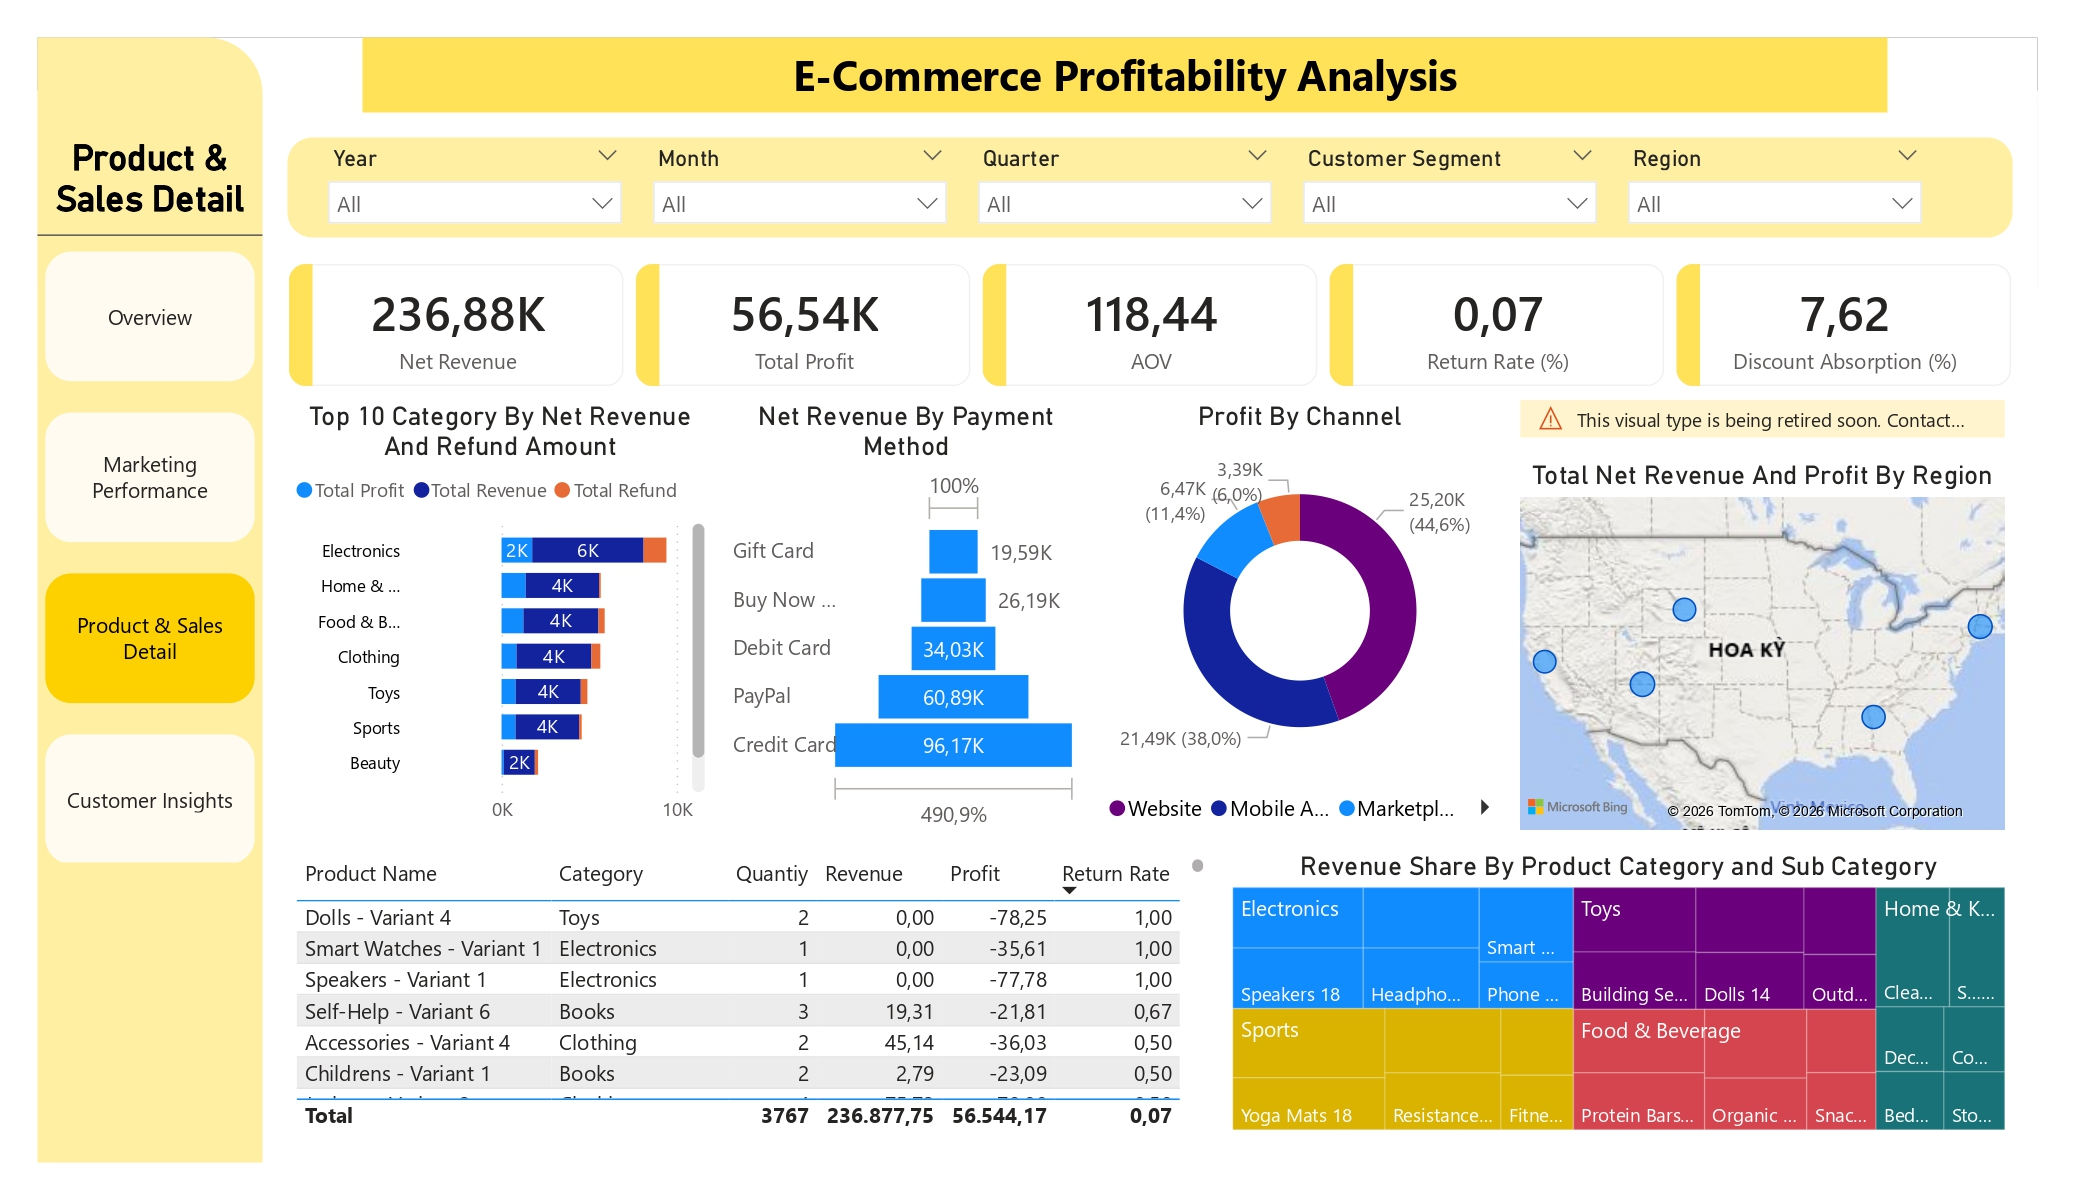

What the dashboard file says about the page in this screenshot:
{"tool":"powerbi","page":{"name":"Product & Sales Detail","canvas":[1280,720],"ordinal":2},"visuals":[{"type":"textbox","box":[208,0,976,48],"z":0},{"type":"shape","box":[0,0,144,720],"z":1000},{"type":"shape","box":[160,64,1104,64],"z":2000},{"type":"cardVisual","fields":{"Data":["Sum(fact_order_details.net_revenue)","Sum(fact_order_details.profit)","fact_order_details.AOV","fact_order_details.Return Rate","Avg(fact_order_details.discount_pct)"]},"box":[144,128,1136,112],"z":3000},{"type":"treemap","title":"Revenue Share By Product Category and Sub Category","fields":{"Group":["dim_products.category"],"Values":["Sum(fact_order_details.items_ordered)"],"Details":["dim_products.sub_category"]},"box":[760,520,504,184],"z":4000},{"type":"map","title":"Total Net Revenue And Profit By Region","fields":{"Category":["dim_order.region"],"Size":["Sum(fact_order_details.net_revenue)"]},"box":[944,232,320,280],"z":5000},{"type":"slicer","fields":{"Values":["Calendar.Date.Variation.Date Hierarchy.Year"]},"box":[176,64,208,80],"z":6000},{"type":"slicer","fields":{"Values":["Calendar.Month"]},"box":[384,64,208,80],"z":7000},{"type":"slicer","fields":{"Values":["Calendar.Date.Variation.Date Hierarchy.Quarter"]},"box":[592,64,208,80],"z":8000},{"type":"slicer","fields":{"Values":["dim_customer.Customer Segment"]},"box":[800,64,208,80],"z":9000},{"type":"slicer","fields":{"Values":["dim_order.region"]},"box":[1008,64,208,80],"z":10000},{"type":"pageNavigator","title":"Product & Sales Detail","box":[0,64,144,464],"z":11000},{"type":"donutChart","title":"Profit By Channel","fields":{"Category":["dim_order.channel"],"Y":["Sum(fact_order_details.profit)"]},"box":[680,232,256,280],"z":12000},{"type":"barChart","title":"Top 10 Category By Net Revenue And Refund Amount","fields":{"Category":["dim_products.category"],"Y":["Sum(fact_order_details.profit)","fact_order_details.Total Revenue","Sum(fact_order_details.refund_amount)"]},"box":[160,232,272,280],"z":13000},{"type":"funnel","title":"Net Revenue By Payment Method","fields":{"Category":["dim_order.payment_method"],"Y":["Sum(fact_order_details.net_revenue)"]},"box":[440,232,232,280],"z":14000},{"type":"tableEx","fields":{"Values":["dim_products.product_name","dim_products.category","Sum(fact_order_details.items_ordered)","fact_order_details.Total Revenue","Sum(fact_order_details.profit)","fact_order_details.Return Rate"]},"box":[160,520,592,184],"z":15000}]}

Visuals, with their boxes on the page's 1280x720 design canvas (x1, y1, x2, y2). These are canvas units, not pixel positions in the 2075x1200 screenshot, which may show the page scaled, cropped or inside an application window:
textbox: bbox(208, 0, 1184, 48)
shape: bbox(0, 0, 144, 720)
shape: bbox(160, 64, 1264, 128)
cardVisual - Sum(fact_order_details.net_revenue) x Sum(fact_order_details.profit): bbox(144, 128, 1280, 240)
"Revenue Share By Product Category and Sub Category" treemap: bbox(760, 520, 1264, 704)
"Total Net Revenue And Profit By Region" map: bbox(944, 232, 1264, 512)
slicer - Calendar.Date.Variation.Date Hierarchy.Year: bbox(176, 64, 384, 144)
slicer - Calendar.Month: bbox(384, 64, 592, 144)
slicer - Calendar.Date.Variation.Date Hierarchy.Quarter: bbox(592, 64, 800, 144)
slicer - dim_customer.Customer Segment: bbox(800, 64, 1008, 144)
slicer - dim_order.region: bbox(1008, 64, 1216, 144)
"Product & Sales Detail" pageNavigator: bbox(0, 64, 144, 528)
"Profit By Channel" donutChart: bbox(680, 232, 936, 512)
"Top 10 Category By Net Revenue And Refund Amount" barChart: bbox(160, 232, 432, 512)
"Net Revenue By Payment Method" funnel: bbox(440, 232, 672, 512)
tableEx - dim_products.product_name x dim_products.category: bbox(160, 520, 752, 704)
